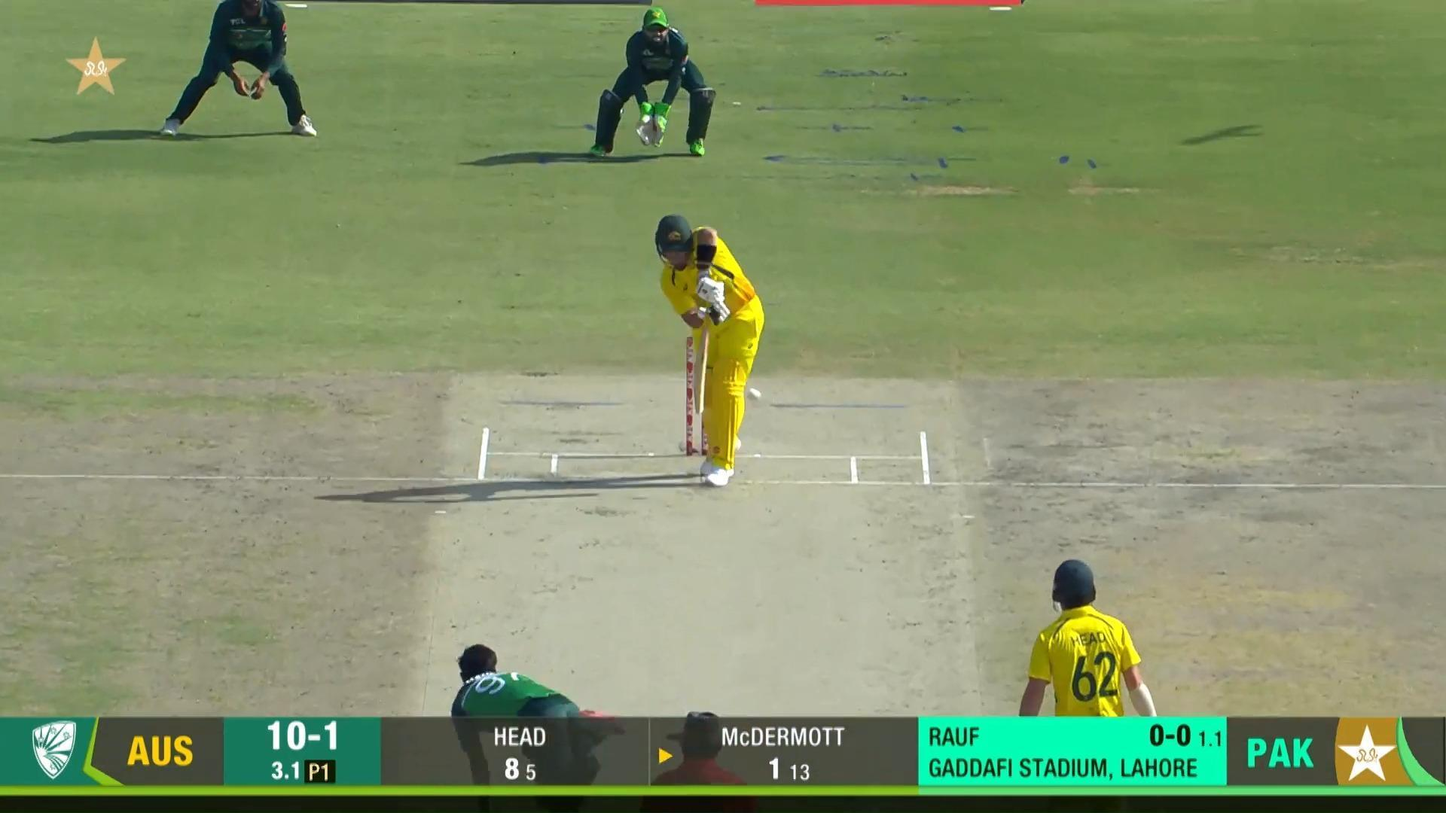BM 1: (653, 215, 765, 487)
BO: (452, 643, 624, 807)
